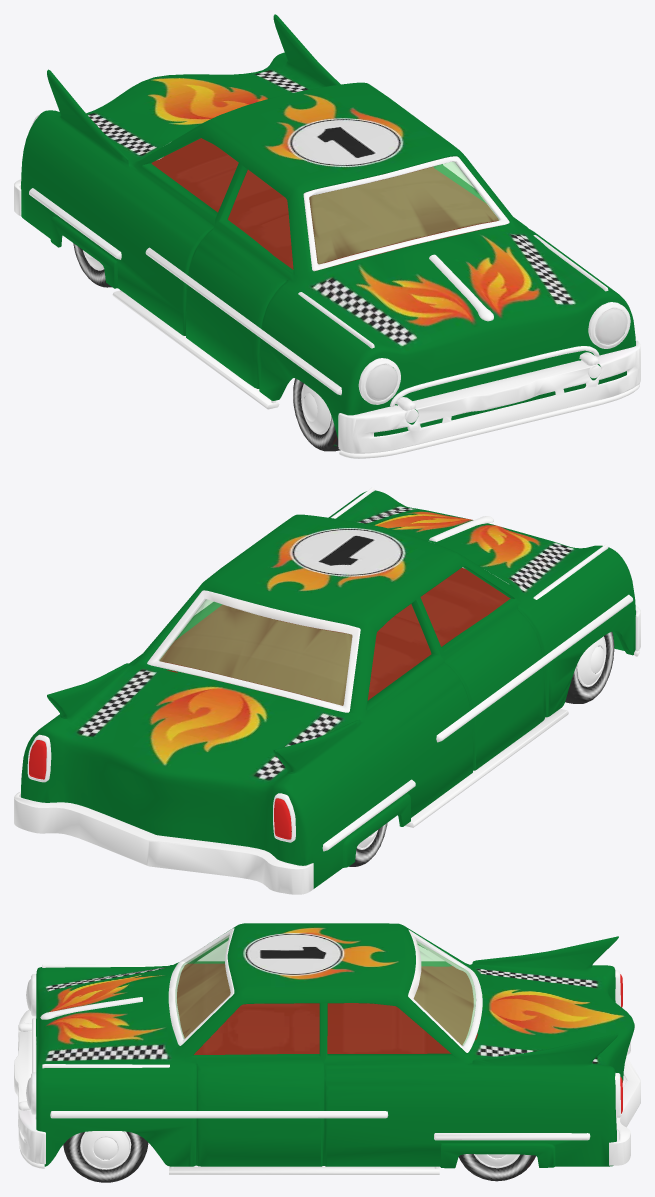
File: toy-car.glb
3 renders of one model, top to bottom at view 1: azimuth 30°, elevation 25°; view 2: azimuth 150°, elevation 25°; view 3: azimuth 270°, elevation 25°, orthographic. The views are drawn at different scales.
Parts seen in each view (by area): view 1: ToyCar, Glass; view 2: ToyCar, Glass; view 3: ToyCar, Glass.
Part boxes in pixels (left/top/right/bottom): ToyCar: left=14, top=14, right=640, bottom=458; Glass: left=309, top=161, right=499, bottom=264; ToyCar: left=14, top=487, right=640, bottom=894; Glass: left=159, top=599, right=352, bottom=705; ToyCar: left=14, top=923, right=640, bottom=1182; Glass: left=175, top=935, right=476, bottom=1045.
Bounding box in the file's own units: 0.0187 × 0.0116 × 0.0384.
2 materials, 1 textured.
